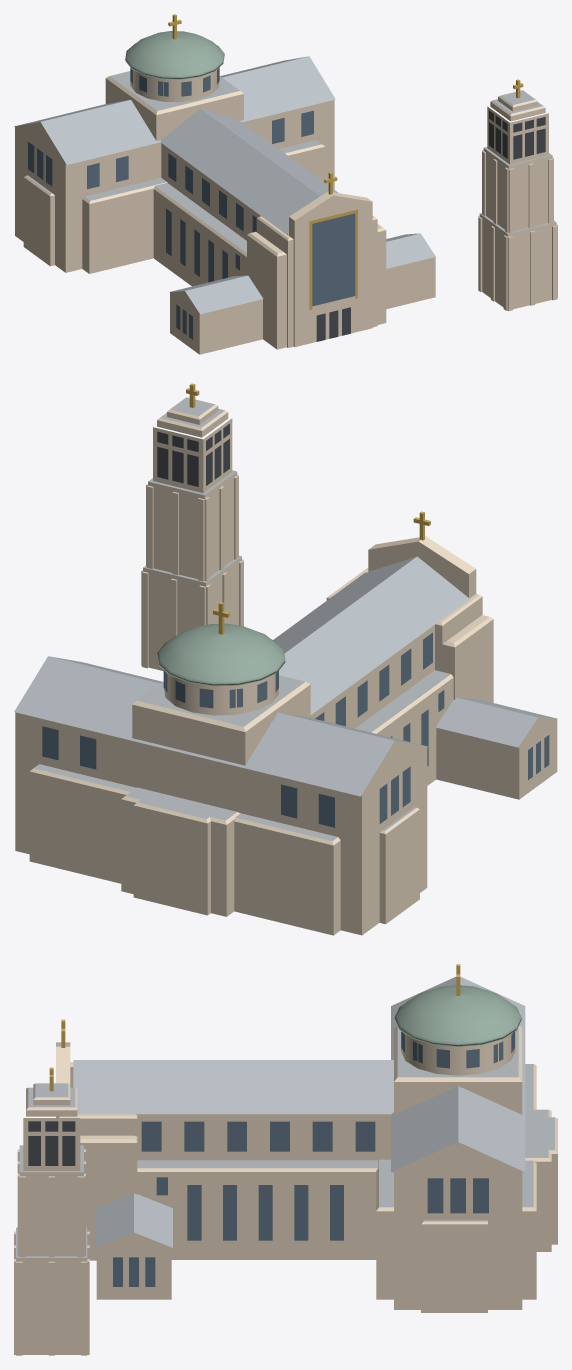
File: hou-sacred-heart-co-cathedral.glb
3 renders of one model, top to bottom at view 1: azimuth 30°, elevation 25°; view 2: azimuth 150°, elevation 25°; view 3: azimuth 270°, elevation 25°, orthographic. The views are drawn at different scales.
Parts seen in each view (by area): view 1: Co-Cathedral of the Sacred Heart; view 2: Co-Cathedral of the Sacred Heart; view 3: Co-Cathedral of the Sacred Heart.
Boxes of the visible parts, x1,y1,x2,y2 form: Co-Cathedral of the Sacred Heart: [14, 14, 557, 354]; Co-Cathedral of the Sacred Heart: [14, 383, 557, 935]; Co-Cathedral of the Sacred Heart: [14, 964, 557, 1355].
Size of the model in its own units: 71.4 by 42 by 76.3.
